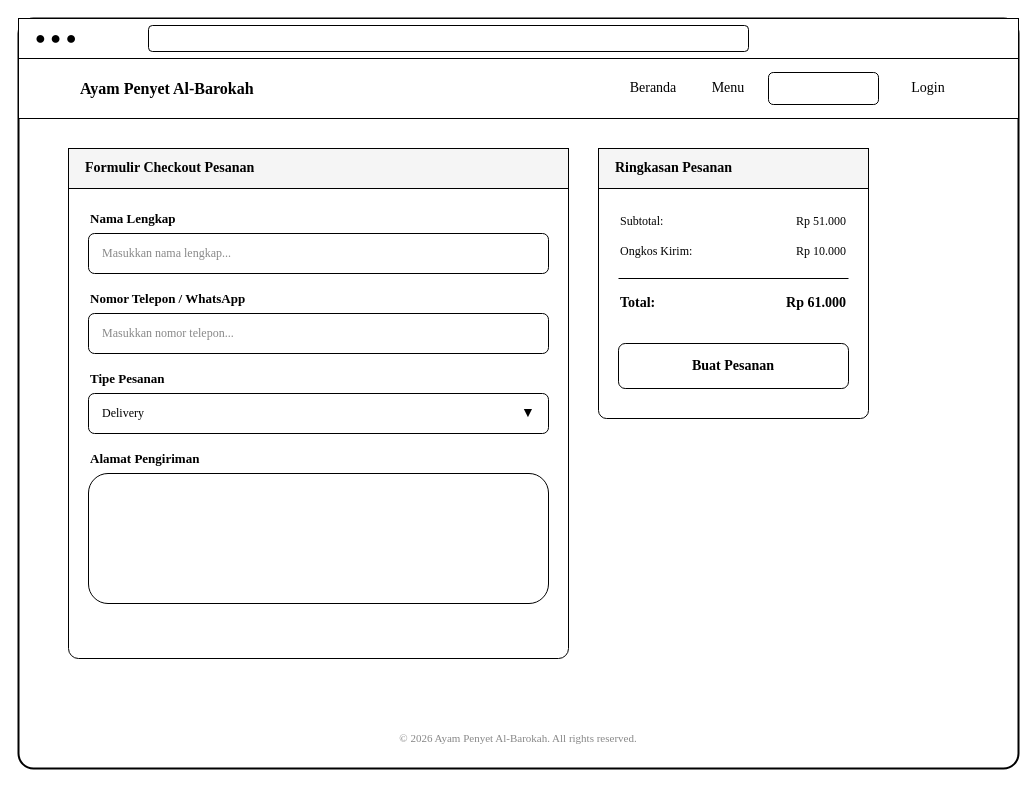
This 1036x786 diagram has some shape labels left out. The shapes that lost their labels are listed below. From the top down, each one's centre as x and y in pixels, then its label:
the point at 448,38: http://localhost/ayam-penyet/fitur_pemesanan/checkout.php
the point at 823,88: Keranjang (2)
the point at 318,538: Masukkan alamat lengkap...
